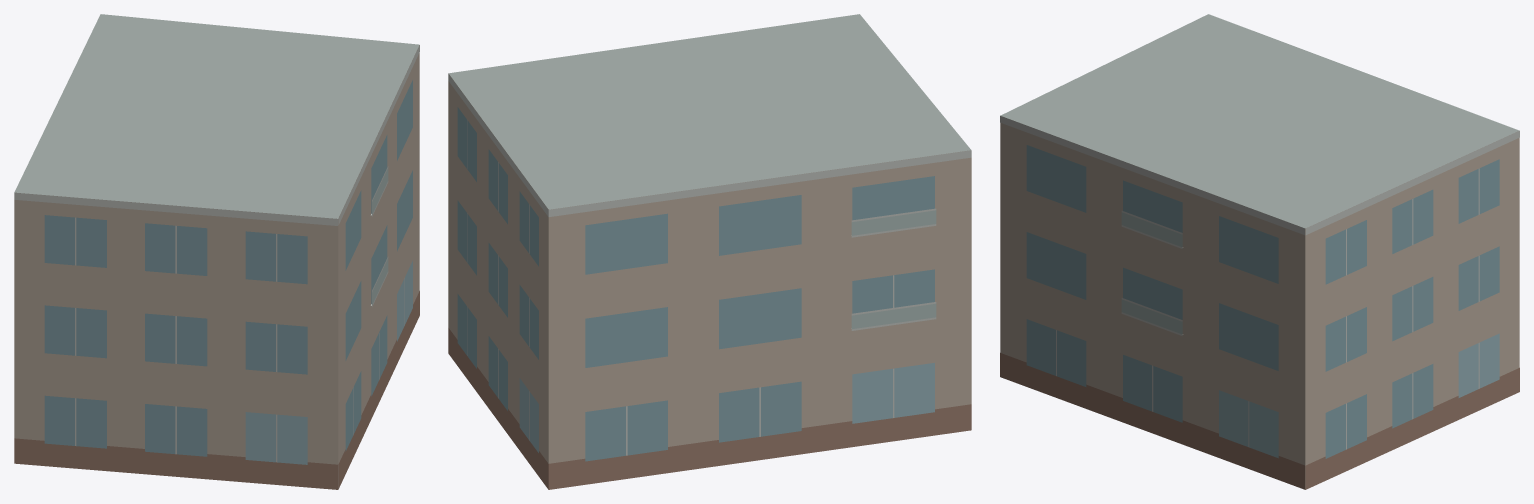
The model's file is survey-upis-32993800.glb.
3 renders of one model, left to right at view 1: azimuth 30°, elevation 25°; view 2: azimuth 150°, elevation 25°; view 3: azimuth 270°, elevation 25°, orthographic. The views are drawn at different scales.
Visible parts, largest first — view 1: survey-upis-32993800.tmp; view 2: survey-upis-32993800.tmp; view 3: survey-upis-32993800.tmp.
Part boxes in pixels (x1=…): survey-upis-32993800.tmp: x1=14, y1=14, x2=419, y2=489; survey-upis-32993800.tmp: x1=448, y1=14, x2=971, y2=489; survey-upis-32993800.tmp: x1=1000, y1=14, x2=1519, y2=489.
Size of the model in its own units: 16.11 by 9.15 by 16.49.
